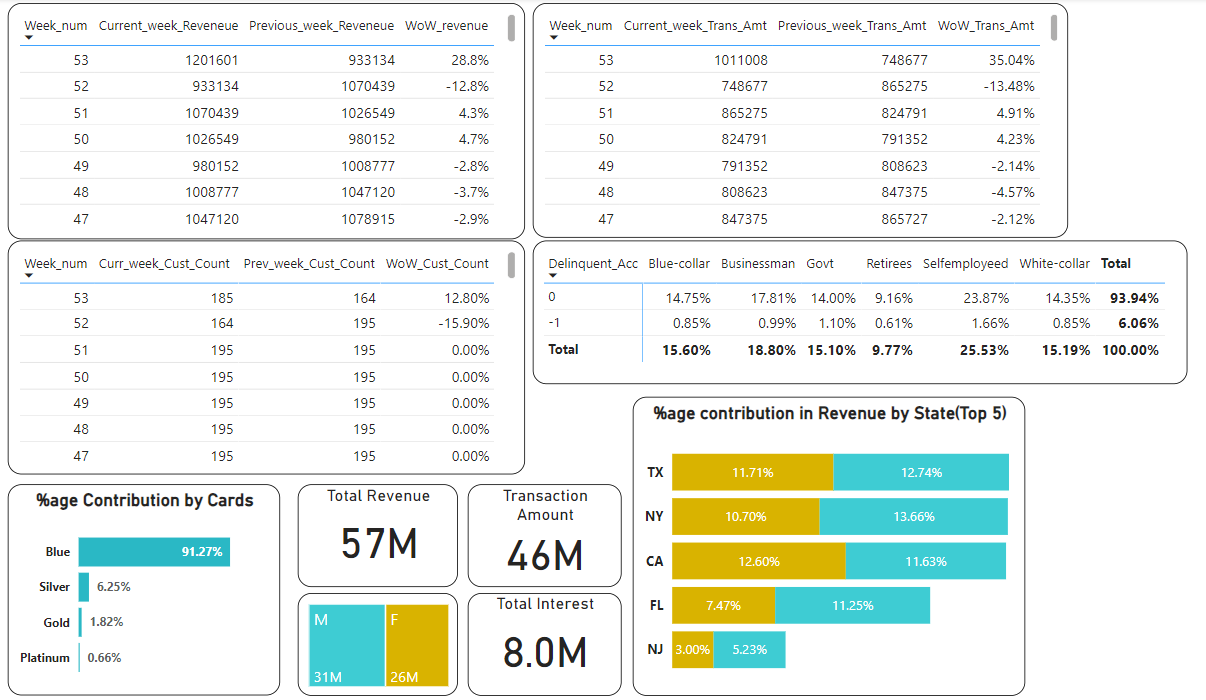

What the dashboard file says about the page in this screenshot:
{"tool":"powerbi","page":{"name":"Page 1","canvas":[1280,720],"ordinal":0},"visuals":[{"type":"tableEx","fields":{"Values":["cc_details.Week_num2","cc_details.Current_week_Reveneue","cc_details.Previous_week_Reveneue","cc_details.WoW_revenue"]},"box":[11.5,5.1,527.4,240.8],"z":0},{"type":"tableEx","fields":{"Values":["cc_details.Week_num2","cc_details.Current_week_Trans_Amt","cc_details.Previous_week_Trans_Amt","cc_details.WoW_Trans_Amt"]},"box":[545.2,6.4,545.2,239.5],"z":1000},{"type":"tableEx","fields":{"Values":["cc_details.Week_num2","cc_details.Current_week_Cust_Count","cc_details.Previous_week_Cust_Count","cc_details.WoW_Cust_Count"]},"box":[11.5,247.1,527.4,238.2],"z":2000},{"type":"actionButton","box":[0,0,100,40],"z":3000},{"type":"pivotTable","fields":{"Rows":["cc_details.Delinquent_Acc"],"Values":["Divide(CountNonNull(cc_details.Delinquent_Acc), ScopedEval(CountNonNull(cc_details.Delinquent_Acc), []))"],"Columns":["cust_details.Customer_Job"]},"box":[545.2,247.1,667.5,146.5],"z":4000},{"type":"card","title":"Total Revenue","fields":{"Values":["Sum(cc_details.Revenue)"]},"box":[470.1,498.1,150.3,104.5],"z":5000},{"type":"card","title":"Total Interest","fields":{"Values":["Sum(cc_details.Interest_Earned)"]},"box":[639.5,433.1,159.2,104.5],"z":6000},{"type":"card","title":"Transaction Amount","fields":{"Values":["Sum(cc_details.Total_Trans_Amt)"]},"box":[639.5,569.4,159.2,108.3],"z":7000},{"type":"clusteredBarChart","title":"Customer_Acq_Cost","fields":{"Y":["Sum(cc_details.Customer_Acq_Cost)"],"Category":["cc_details.Card_Category"]},"box":[11.5,494.3,277.7,215.3],"z":8000},{"type":"treemap","fields":{"Group":["cust_details.Gender"],"Values":["Sum(cc_details.Revenue)"]},"box":[300.6,498.1,163.1,104.5],"z":9000},{"type":"barChart","title":"Revenue by State(Top 5)","fields":{"Y":["Sum(cc_details.Revenue)"],"Series":["cust_details.Gender"],"Category":["cust_details.state_cd"]},"box":[852.2,405.1,400,304.5],"z":10000}]}

Visuals, with their boxes on the page's 1280x720 design canvas (x1, y1, x2, y2). These are canvas units, not pixel positions in the 1206x700 screenshot, which may show the page scaled, cropped or inside an application window:
tableEx - cc_details.Week_num2 x cc_details.Current_week_Reveneue: <region>12, 5, 539, 246</region>
tableEx - cc_details.Week_num2 x cc_details.Current_week_Trans_Amt: <region>545, 6, 1090, 246</region>
tableEx - cc_details.Week_num2 x cc_details.Current_week_Cust_Count: <region>12, 247, 539, 485</region>
actionButton: <region>0, 0, 100, 40</region>
pivotTable - cc_details.Delinquent_Acc x Divide(CountNonNull(cc_details.Delinquent_Acc), ScopedEval(CountNonNull(cc_details.Delinquent_Acc), [])): <region>545, 247, 1213, 394</region>
"Total Revenue" card: <region>470, 498, 620, 603</region>
"Total Interest" card: <region>640, 433, 799, 538</region>
"Transaction Amount" card: <region>640, 569, 799, 678</region>
"Customer_Acq_Cost" clusteredBarChart: <region>12, 494, 289, 710</region>
treemap - cust_details.Gender x Sum(cc_details.Revenue): <region>301, 498, 464, 603</region>
"Revenue by State(Top 5)" barChart: <region>852, 405, 1252, 710</region>
